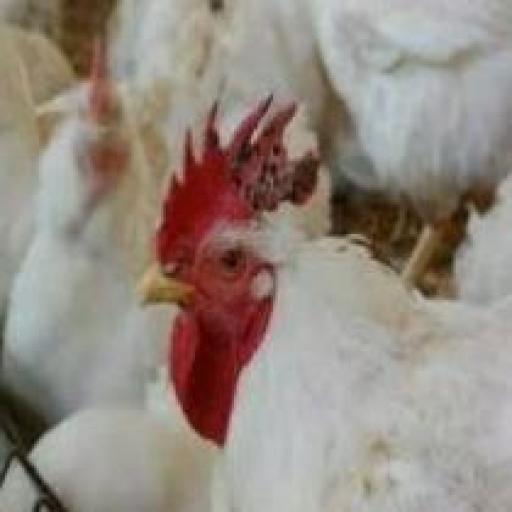disease: (194, 94, 332, 211)
